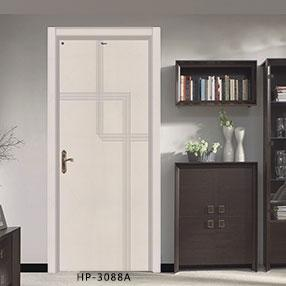door: (61, 41, 152, 272)
